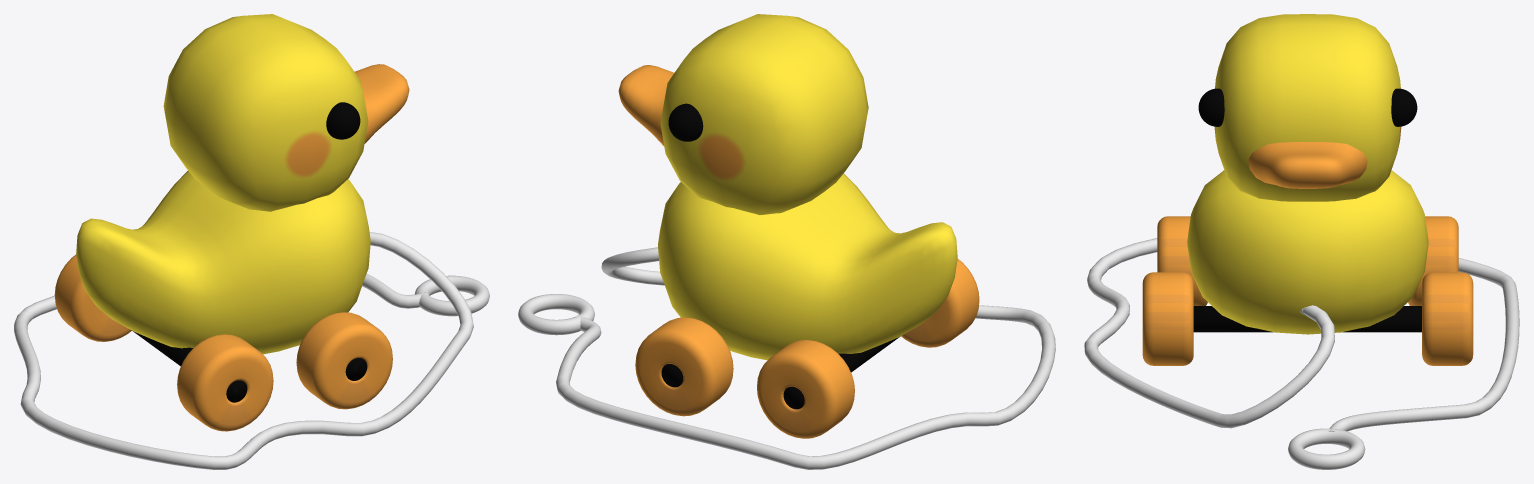
The model's file is earth.glb.
The picture shows the model from 3 angles, left to right: view 1: azimuth 30°, elevation 25°; view 2: azimuth 150°, elevation 25°; view 3: azimuth 270°, elevation 25°; orthographic projection. The views are drawn at different scales.
Size of the model in its own units: 4.01 by 2.67 by 3.14.
Materials: 3 (2 with a texture image).
